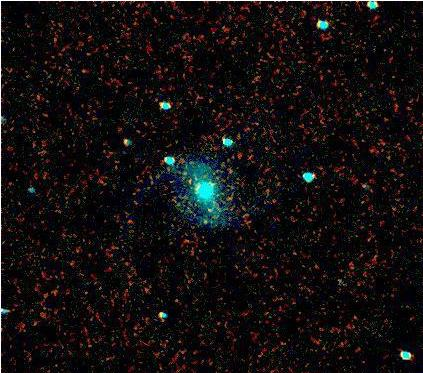star: (192, 198, 222, 228)
